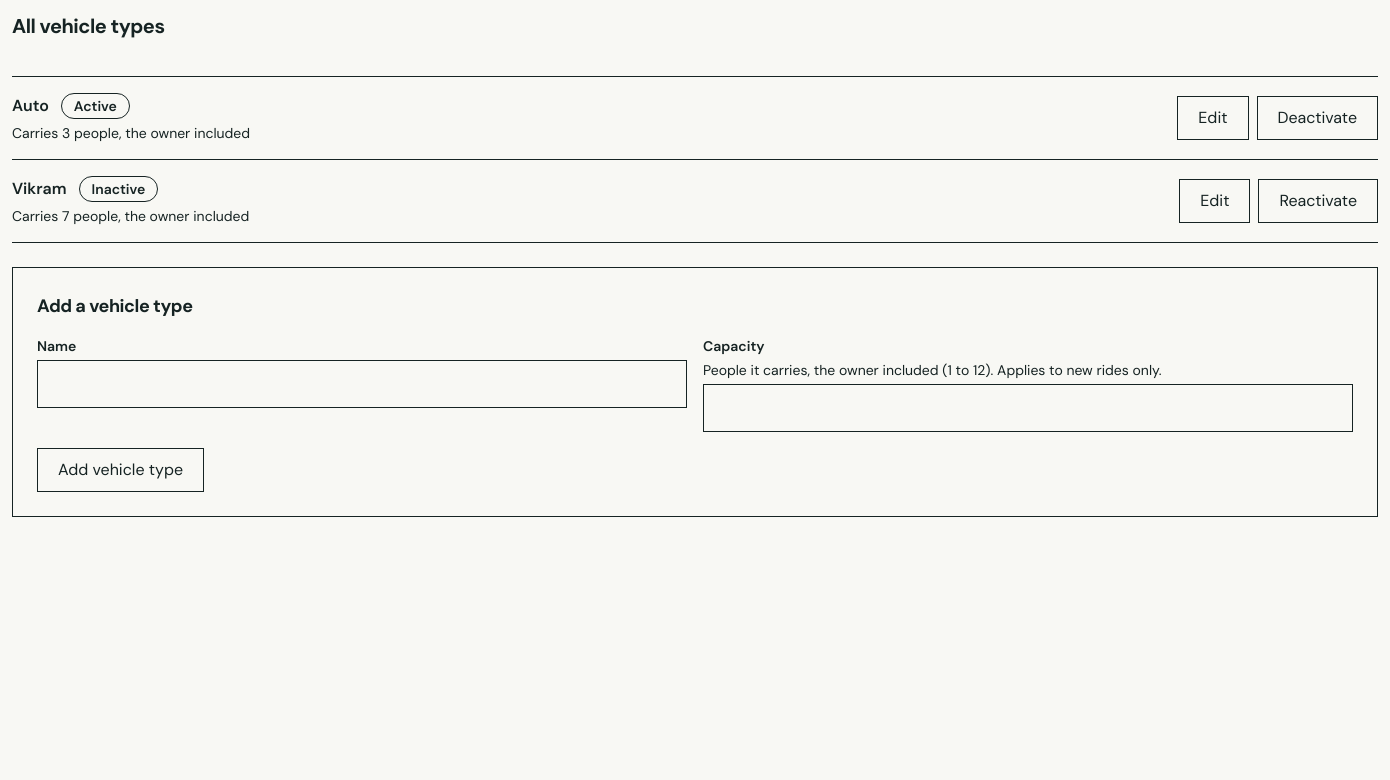
it: VehicleTypesEditor (OA-FR-01 to 03, CS455-51) › edits in place, sending the version it loaded, and shows the saved item
This screenshot has width=1390, height=780.
Click the button with aria-label "Edit Auto". click: click(1213, 118)
box: [1177,96,1248,140]
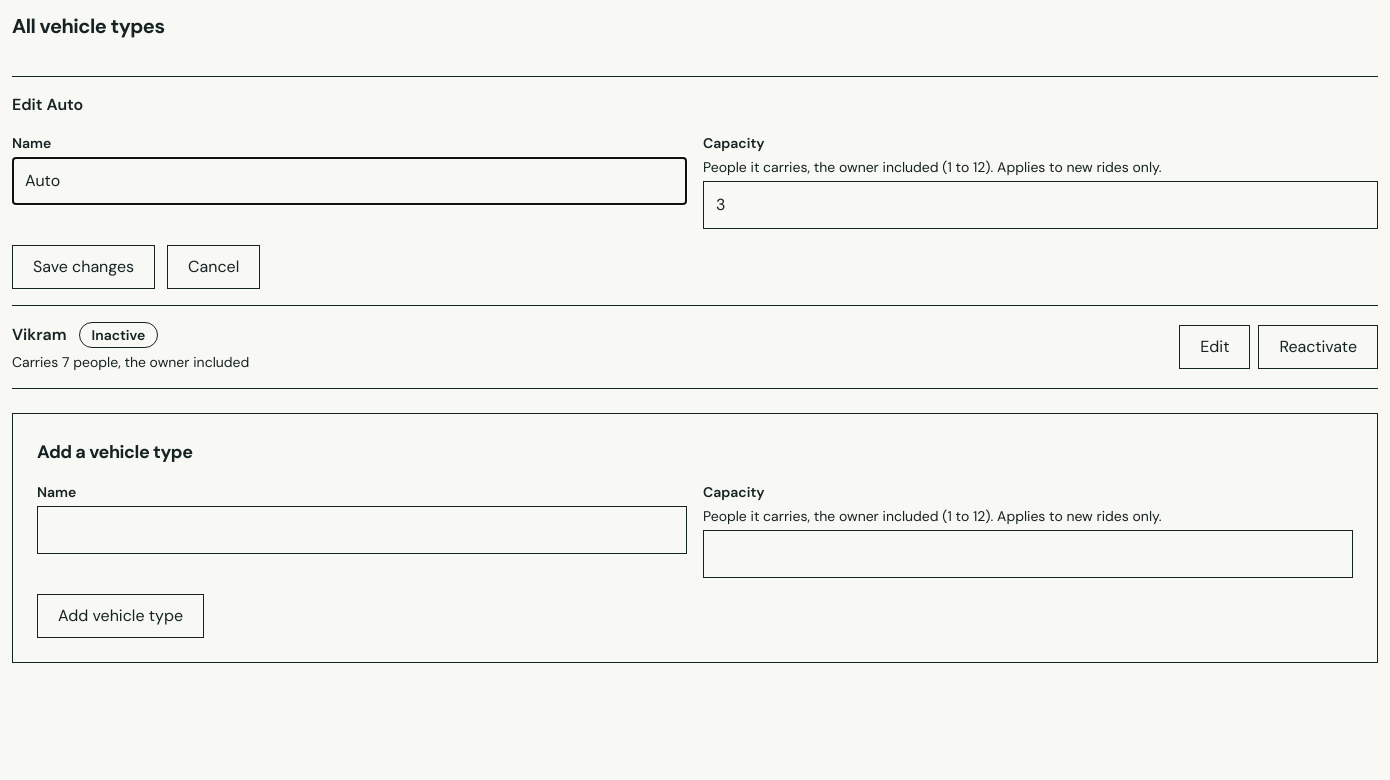
Replace the text in the 1st field labelled "Capacity" with "4". click: (1040, 205)
box: [703,181,1378,229]
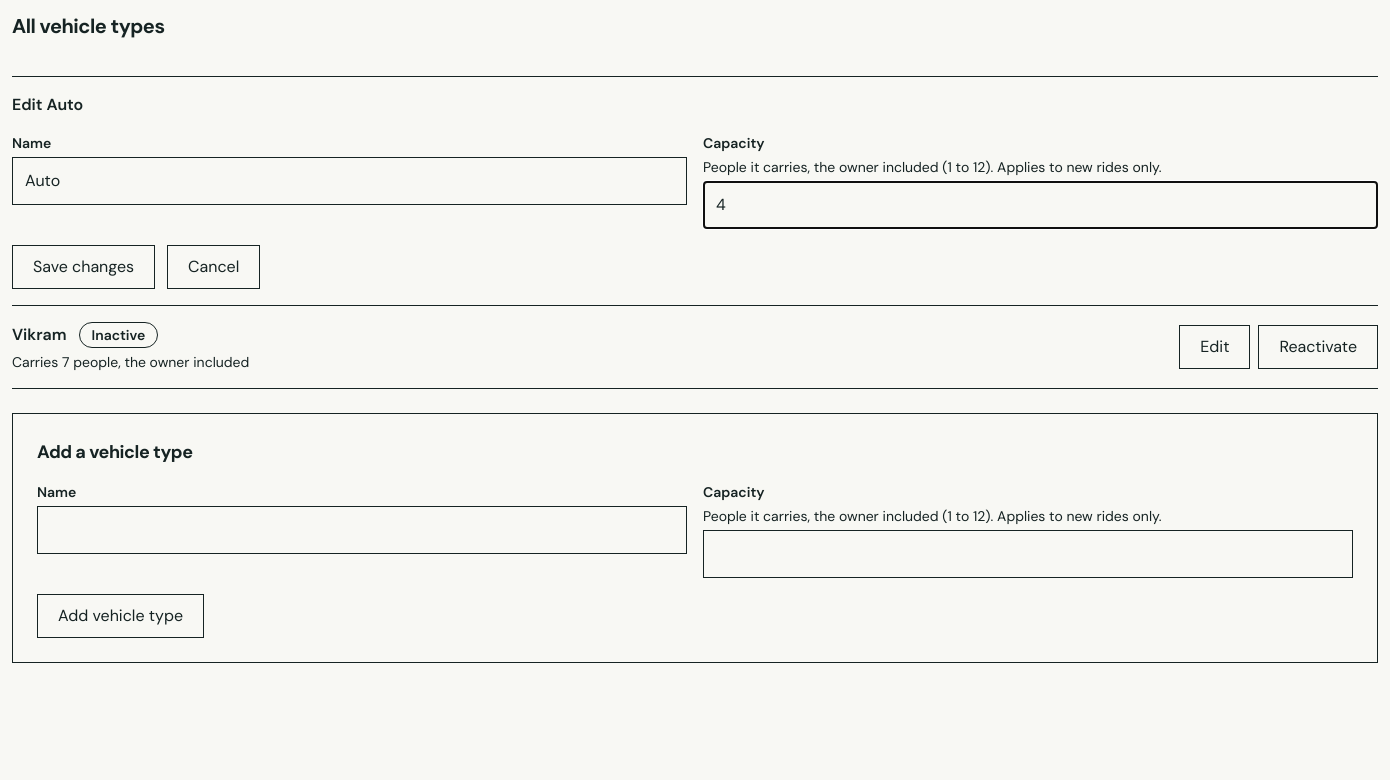
Click the button "Save changes". click: click(84, 267)
box: [12,245,155,289]
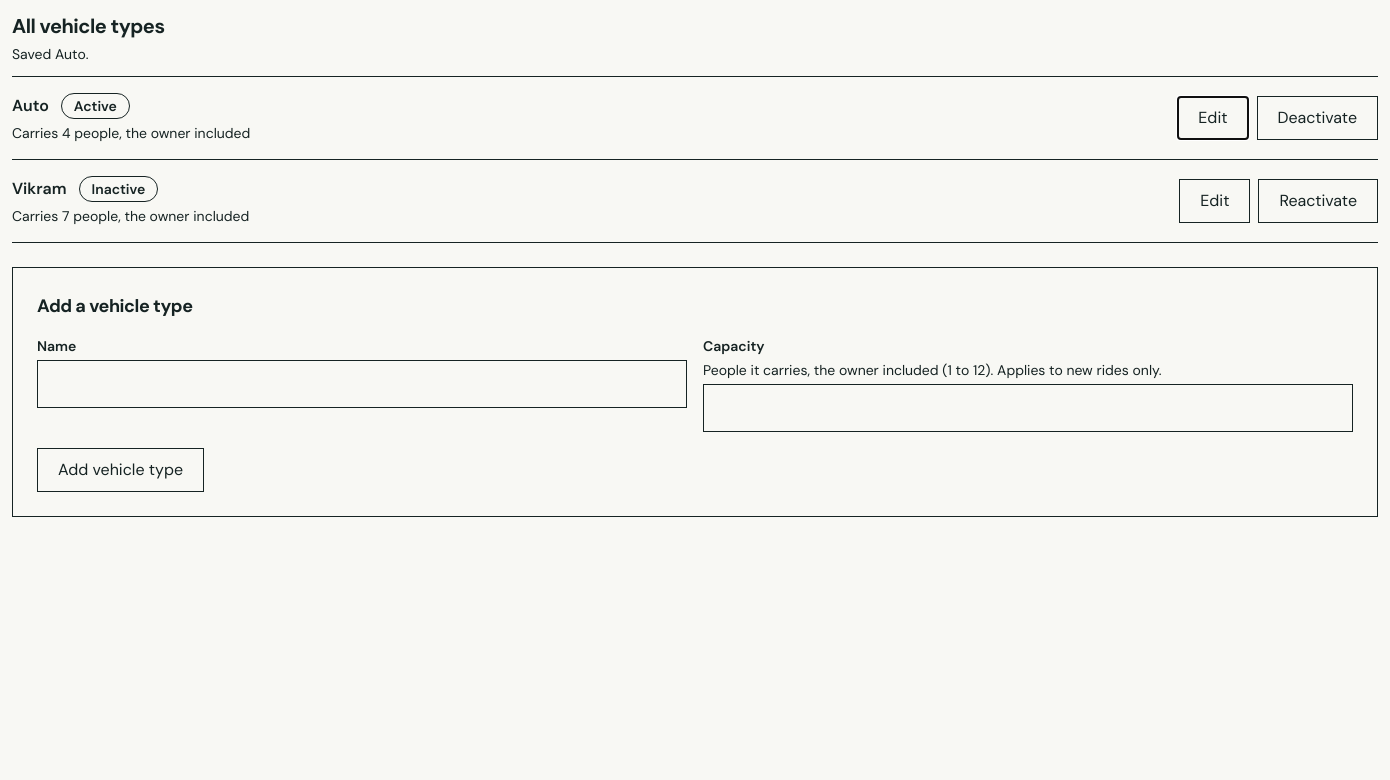
Check: the text "Carries 4 people, the owner included" is shown, box [12,123,250,143]
Check: the message reads "Saved Auto.", box [12,45,88,63]
